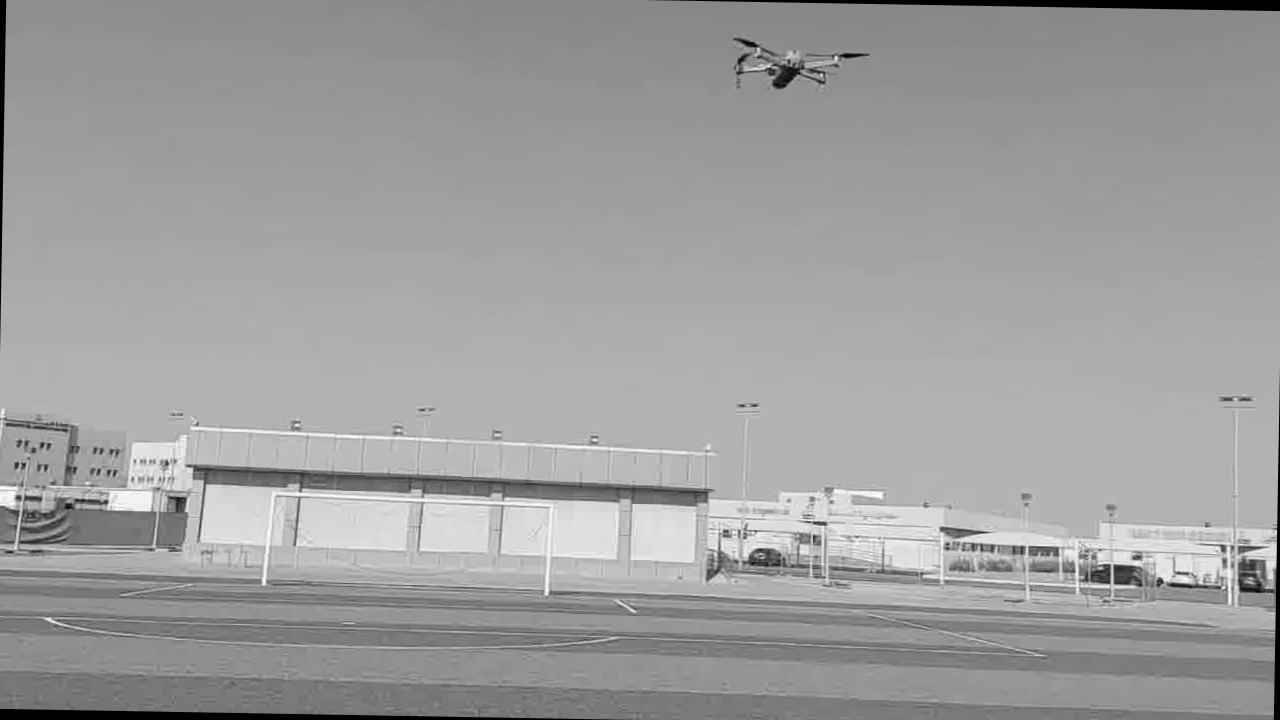drone: (716, 31, 880, 102)
